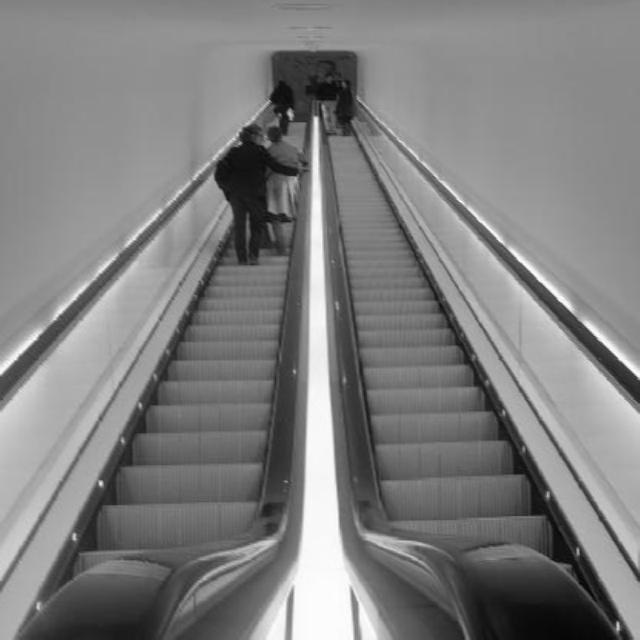stair: (324, 130, 596, 604), (66, 119, 308, 582)
